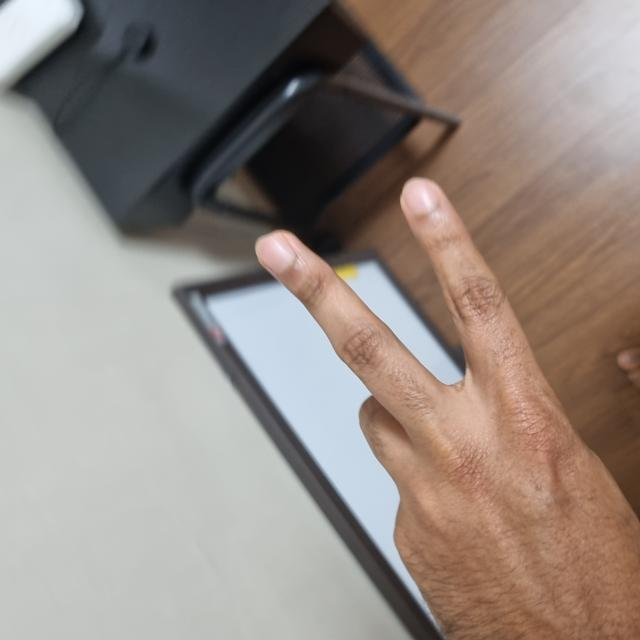Scissors: (1, 264, 457, 638)
